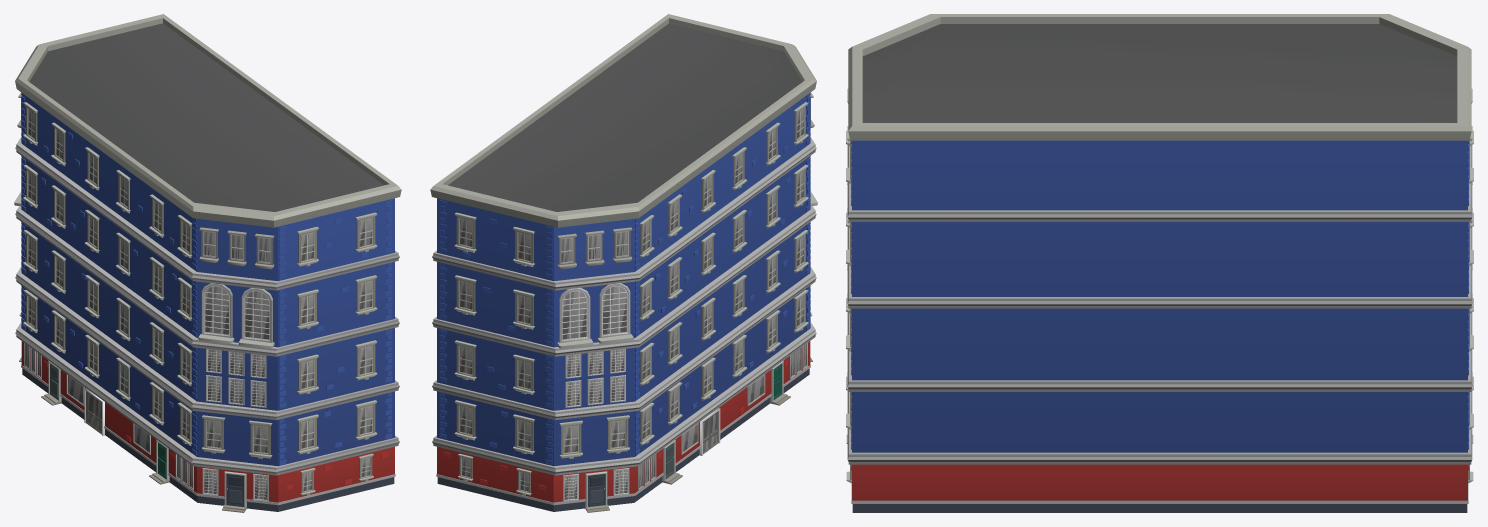
File: Building_25_5_B.fbx
3 views of the same model, side by side, from view 1: azimuth 30°, elevation 25°; view 2: azimuth 150°, elevation 25°; view 3: azimuth 270°, elevation 25° (orthographic). The views are drawn at different scales.
Parts seen in each view (by area): view 1: Building_25_5_B; view 2: Building_25_5_B; view 3: Building_25_5_B.
Boxes of the visible parts, x1=… form: Building_25_5_B: x1=14, y1=14, x2=401, y2=512; Building_25_5_B: x1=430, y1=14, x2=817, y2=512; Building_25_5_B: x1=846, y1=14, x2=1473, y2=512.
Size of the model in its own units: 1291 by 2014 by 2941.
